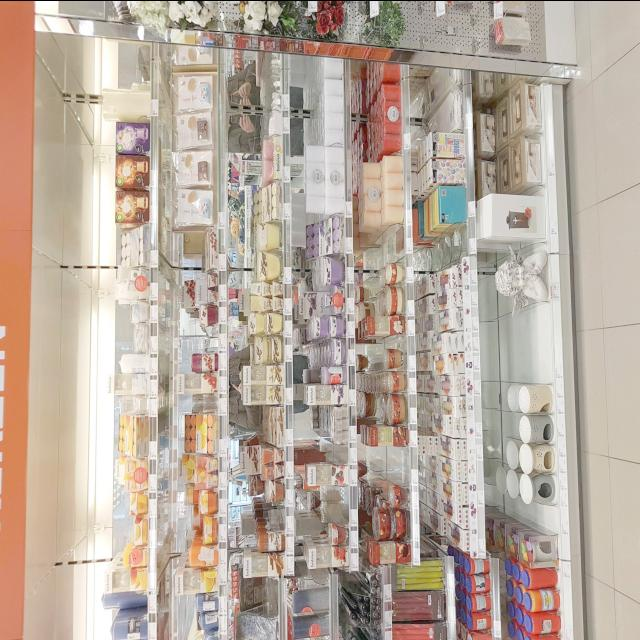empty_space: (496, 311, 549, 381), (366, 445, 410, 479), (515, 503, 553, 521), (435, 102, 462, 126)
